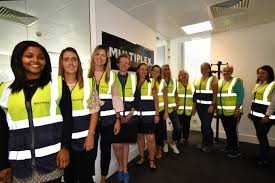vest: (3, 83, 60, 170), (60, 79, 97, 145), (89, 73, 119, 126), (221, 79, 244, 117), (254, 83, 274, 124), (140, 78, 158, 117), (196, 79, 216, 114), (121, 75, 138, 112), (181, 83, 193, 114), (169, 78, 178, 114), (159, 81, 167, 111)
